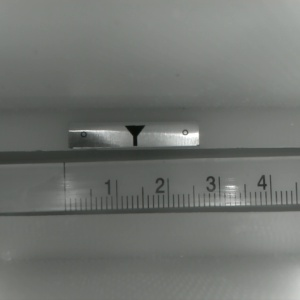1: (103, 179, 110, 194)
2: (154, 177, 164, 193)
3: (206, 177, 216, 192)
4: (256, 175, 267, 189)
finger: (123, 125, 145, 146)
